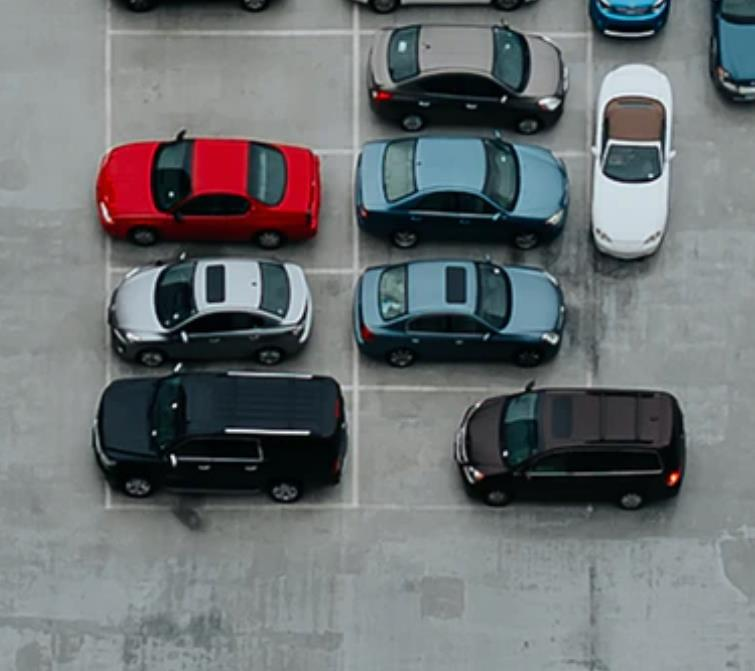car: (91, 366, 350, 510), (441, 377, 690, 512), (93, 129, 327, 251), (352, 128, 572, 251), (348, 252, 568, 372), (365, 16, 570, 136), (105, 253, 317, 367), (585, 59, 672, 264)
